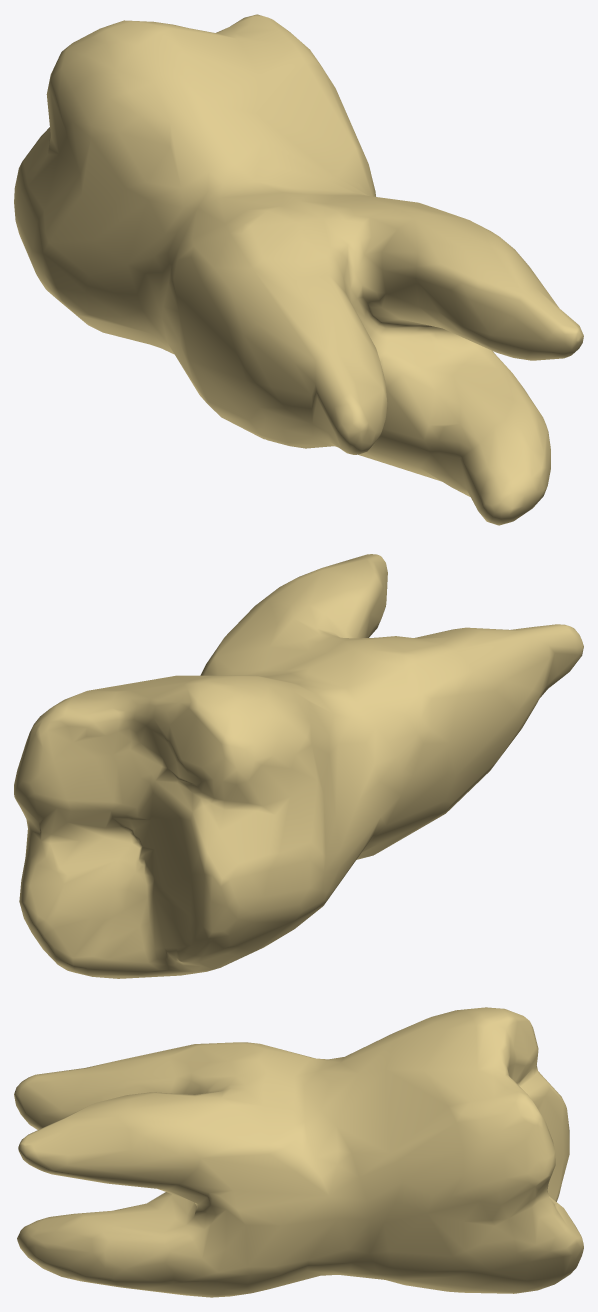
The picture shows the model from 3 angles, top to bottom: view 1: azimuth 30°, elevation 25°; view 2: azimuth 150°, elevation 25°; view 3: azimuth 270°, elevation 25°; orthographic projection. The views are drawn at different scales.
Parts seen in each view (by area): view 1: 左侧上颌第一磨牙; view 2: 左侧上颌第一磨牙; view 3: 左侧上颌第一磨牙.
Boxes of the visible parts, x1,y1,x2,y2 form: 左侧上颌第一磨牙: [14, 14, 583, 525]; 左侧上颌第一磨牙: [14, 554, 583, 978]; 左侧上颌第一磨牙: [14, 1007, 583, 1297].
Size of the model in its own units: 0.0167 by 0.0166 by 0.0353.
